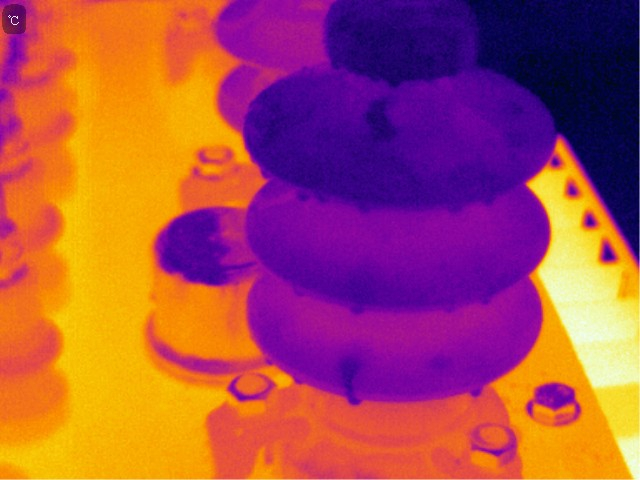Water: (363, 95, 402, 142), (333, 353, 365, 406), (259, 119, 283, 139), (351, 198, 375, 217), (466, 382, 487, 402), (287, 282, 310, 300), (290, 187, 312, 204), (446, 202, 468, 216), (433, 354, 451, 371), (336, 17, 353, 33), (348, 305, 368, 317), (478, 292, 494, 307), (327, 60, 344, 74), (291, 373, 308, 385), (260, 168, 274, 182), (262, 356, 277, 369), (388, 80, 404, 90), (483, 193, 495, 206), (515, 107, 526, 119), (448, 70, 460, 80)
